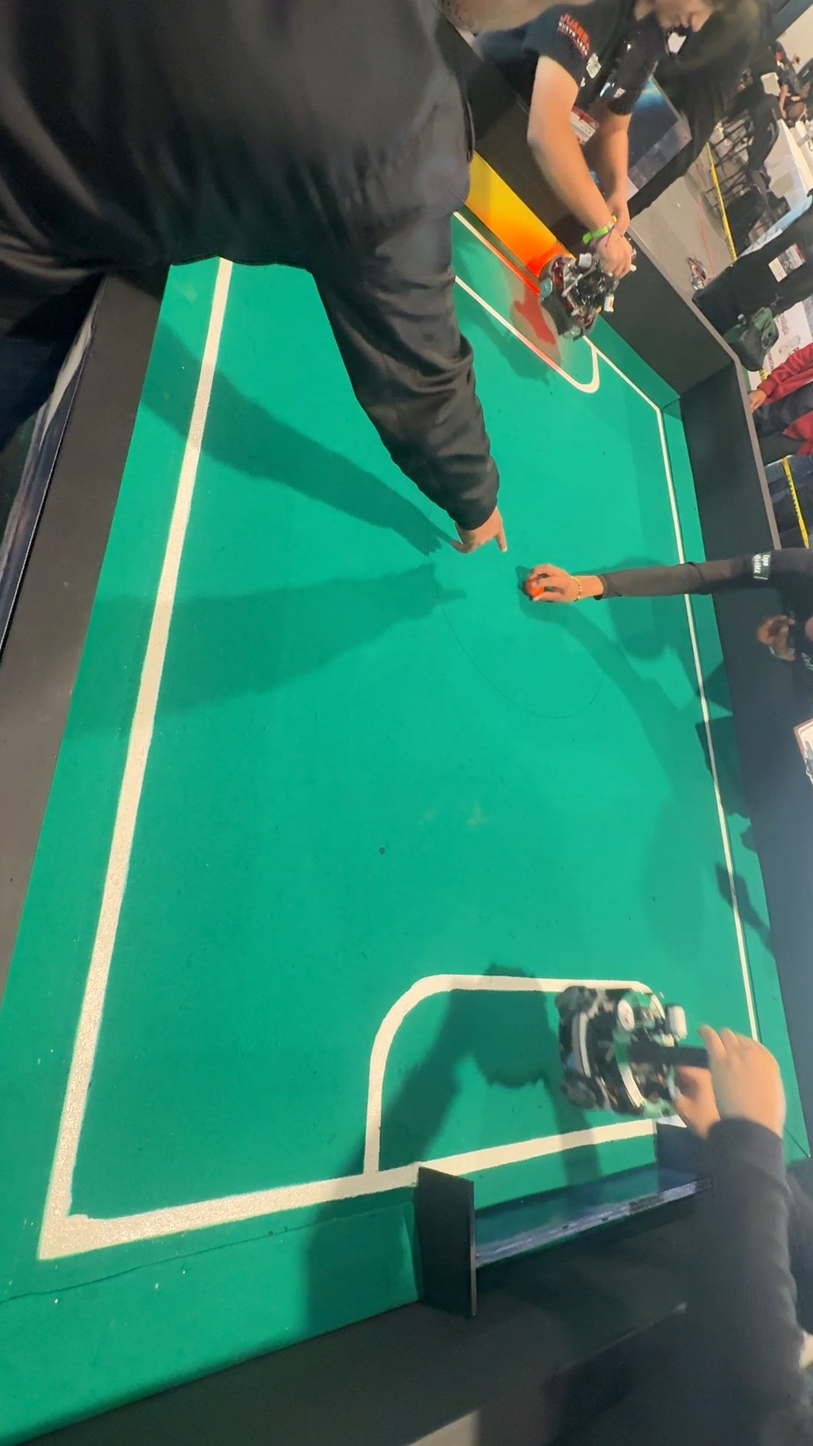Robot: (541, 236, 620, 346)
